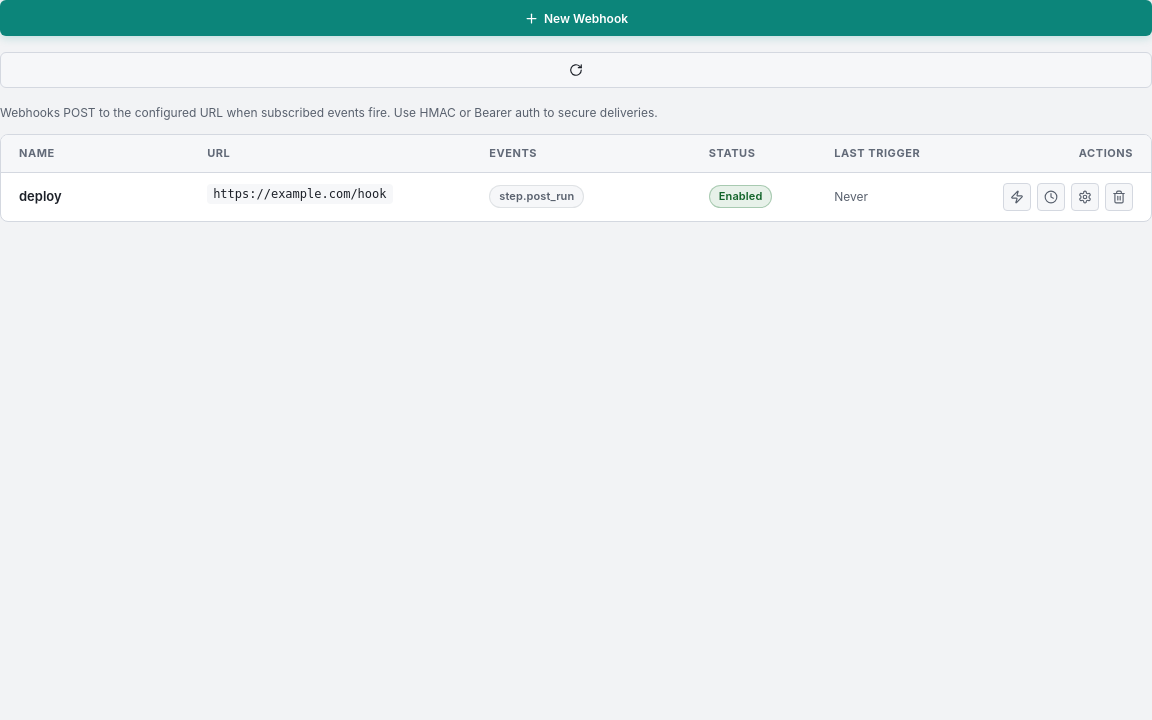
Scenario: Webhooks.vue › prefills timeout and retry count when editing
Click the button named "Edit" at (1085, 196), box [1071,182,1099,210]
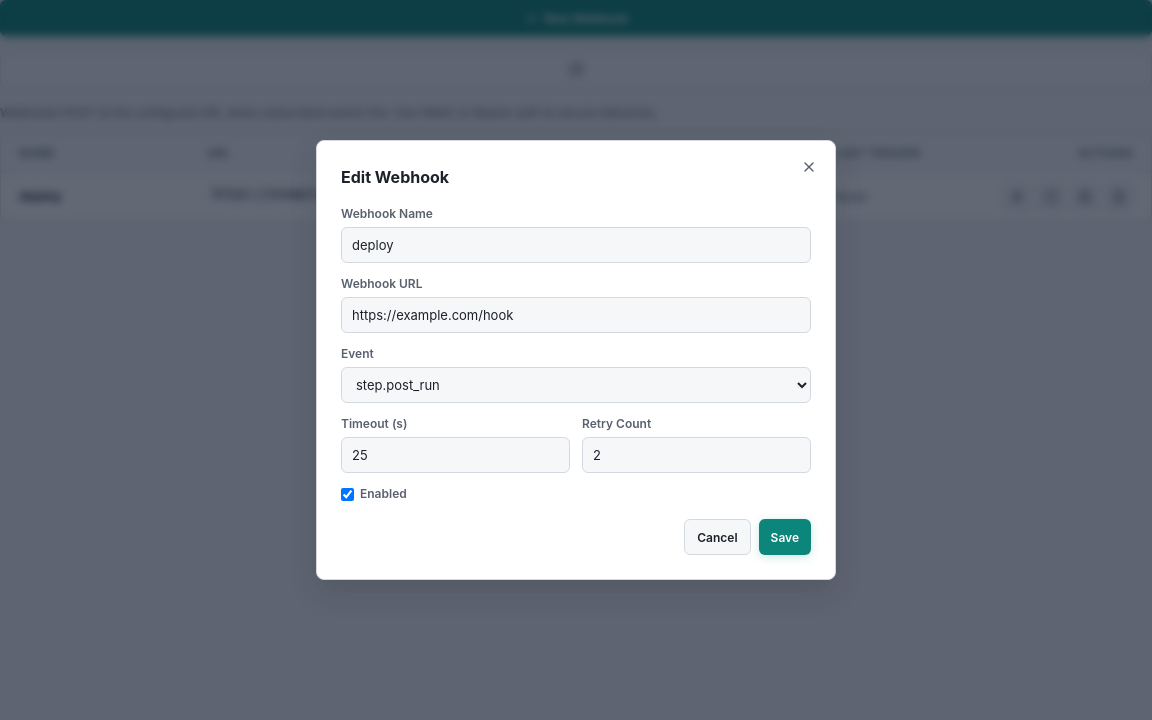
Expected: the number of number fields is 2, [341,437,570,473]; [582,437,811,473]
Expected: the number field labelled "Timeout (s)" holds "25", [341,437,570,473]
Expected: the number field labelled "Retry Count" holds "2", [582,437,811,473]
